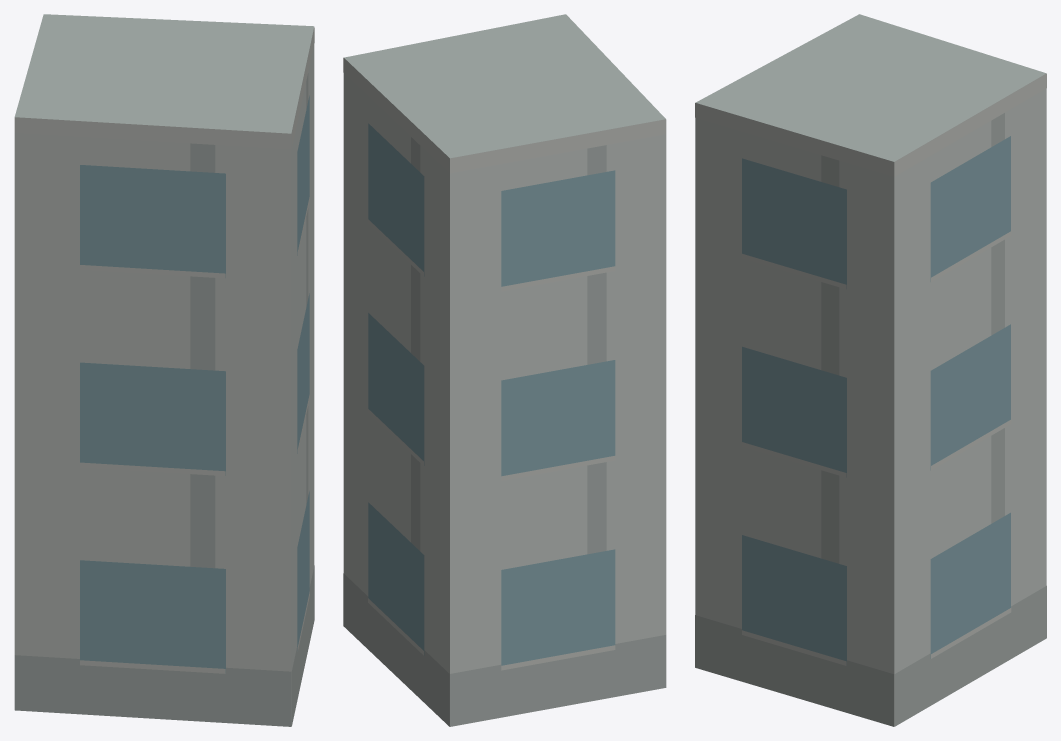
The model's file is survey-upis-32571554.glb.
3 views of the same model, side by side, from view 1: azimuth 30°, elevation 25°; view 2: azimuth 150°, elevation 25°; view 3: azimuth 270°, elevation 25° (orthographic). The views are drawn at different scales.
Parts seen in each view (by area): view 1: survey-upis-32571554.tmp; view 2: survey-upis-32571554.tmp; view 3: survey-upis-32571554.tmp.
Part boxes in pixels (x1=…): survey-upis-32571554.tmp: x1=14, y1=14, x2=314, y2=726; survey-upis-32571554.tmp: x1=343, y1=14, x2=666, y2=726; survey-upis-32571554.tmp: x1=695, y1=14, x2=1046, y2=726.
Bounding box in the file's own units: 5.14 × 9.15 × 5.17.
